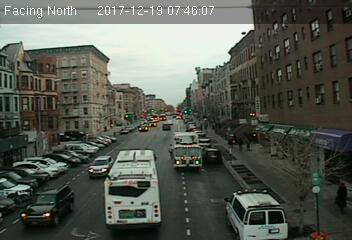bus: (103, 149, 163, 228)
car: (19, 182, 75, 227), (88, 155, 115, 177), (203, 148, 222, 164)
pedestrian: (331, 177, 350, 218)
police: (223, 187, 290, 240)
truck: (172, 130, 202, 170)
